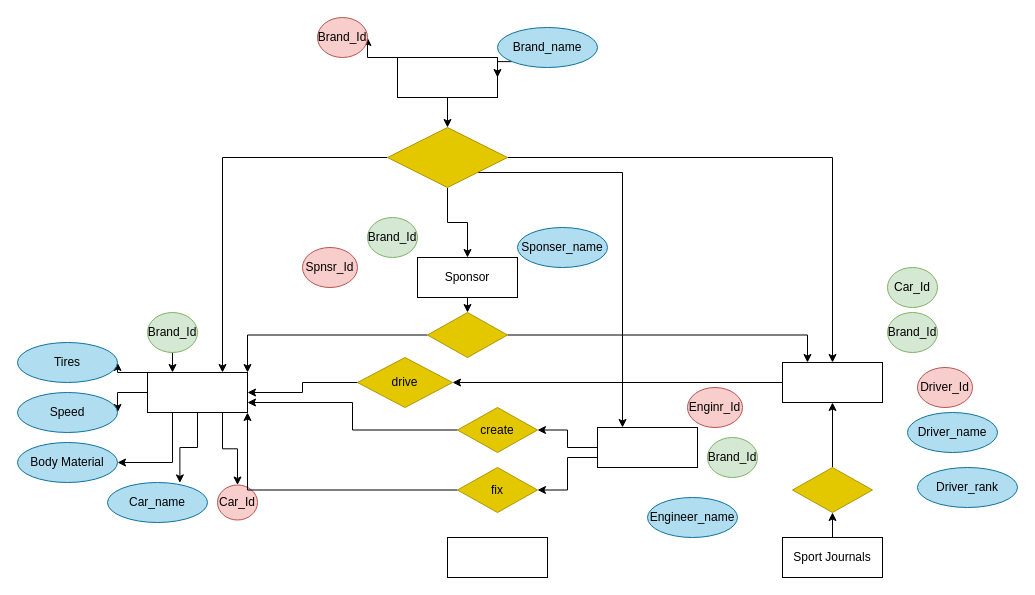
Some shapes in this 1035 by 595 pixel diagram are drawn without their labels. Here are the shapes that lost their labels. From the top down, the box of each, then its label:
(396, 56, 498, 98): Brands
(386, 126, 508, 188): contain
(426, 312, 508, 358): invest
(146, 372, 248, 412): Racing cars
(782, 362, 882, 402): Drivers
(596, 426, 698, 468): Engineers
(792, 466, 872, 512): interview
(446, 536, 548, 578): Countries
